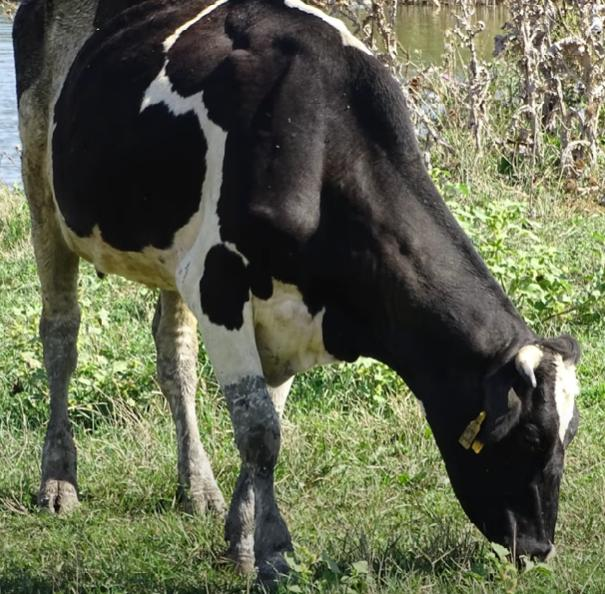cow: (18, 0, 578, 581)
